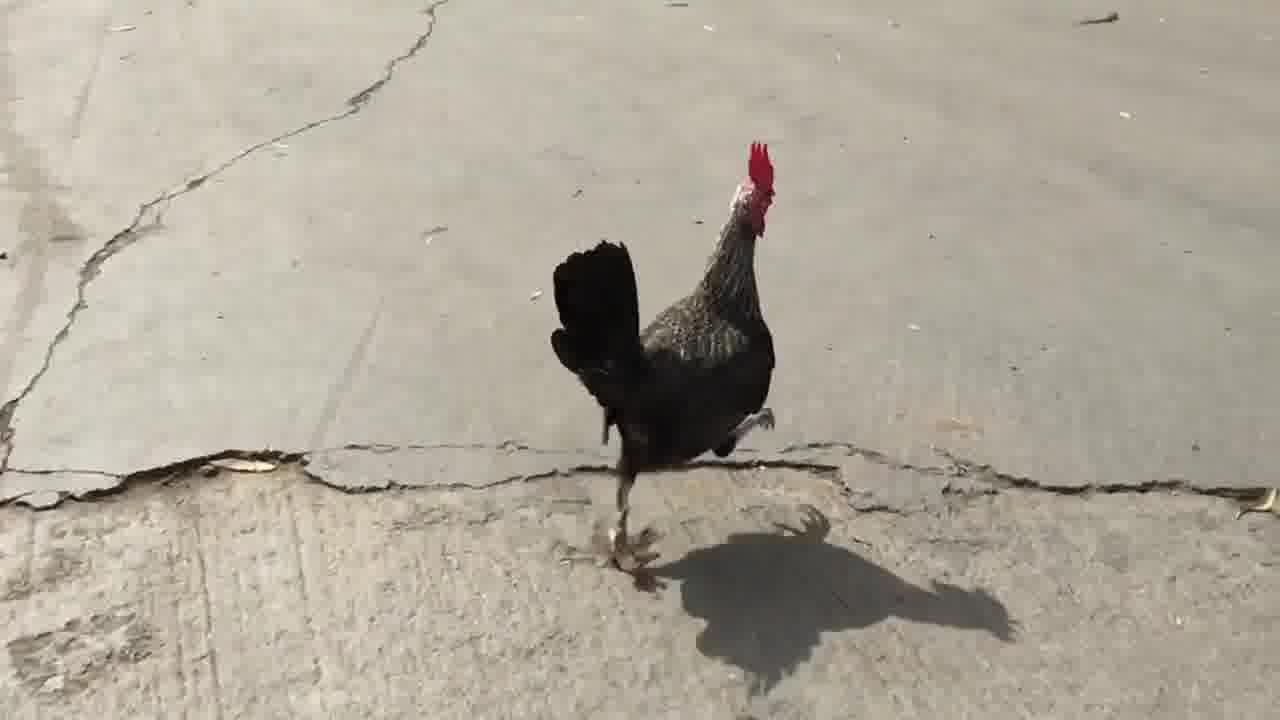Normal: (556, 144, 806, 550)
